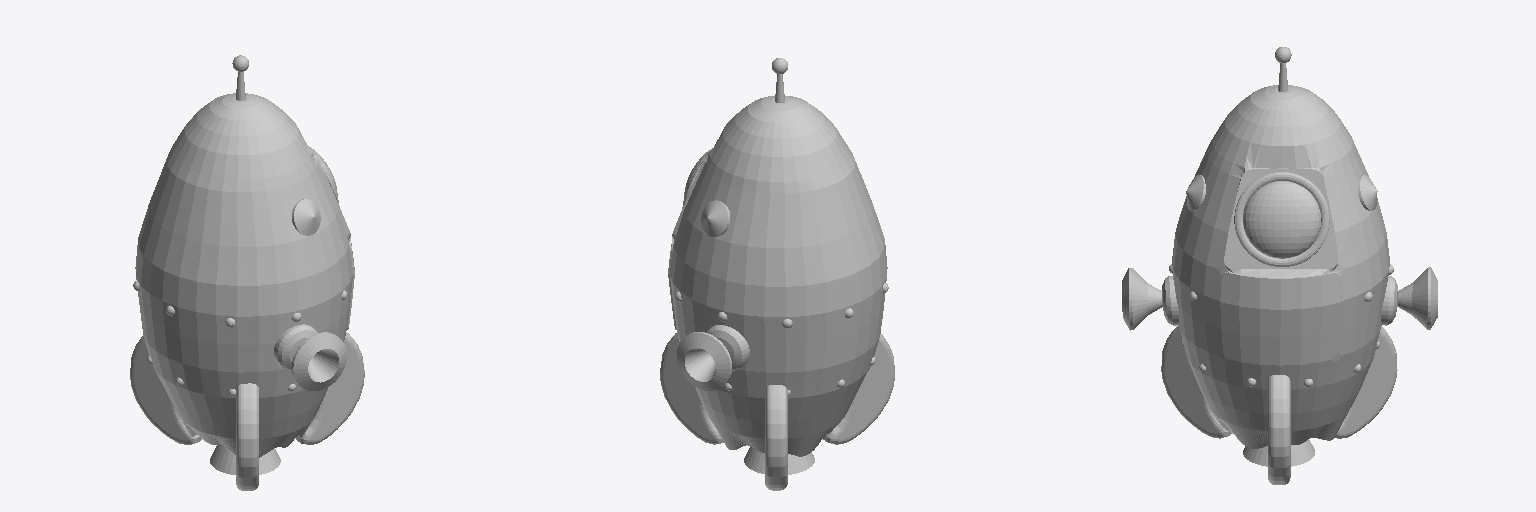
Rendered from spaceship.obj.
The picture shows the model from 3 angles: view 1: azimuth 30°, elevation 25°; view 2: azimuth 150°, elevation 25°; view 3: azimuth 270°, elevation 25°; orthographic projection.
Visible parts, largest first — view 1: Cohete; view 2: Cohete; view 3: Cohete.
Boxes of the visible parts, x1,y1,x2,y2 form: Cohete: [130, 55, 364, 490]; Cohete: [660, 58, 894, 490]; Cohete: [1122, 47, 1437, 484].
Size of the model in its own units: 1.89 by 3.45 by 2.45.